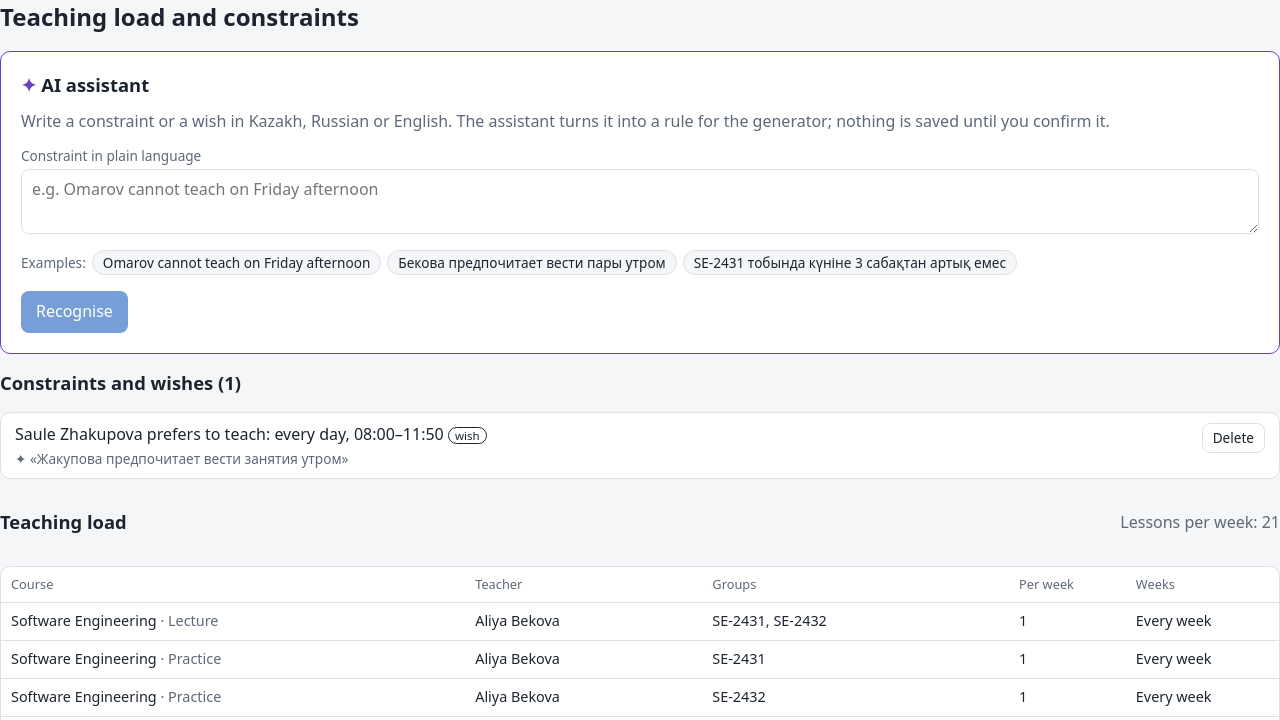
Scenario: LoadPage › turns a sentence into a rule and saves it after confirmation
This screenshot has width=1280, height=720.
Expected: the heading "Constraints and wishes (1)" is shown, [0,370,241,395]
Type "Omarov cannot teach on Friday afternoon" into the text box labelled "Constraint in plain language".
click(640, 202); type("Omarov cannot teach on Friday afternoon")  # box [21,169,1259,234]
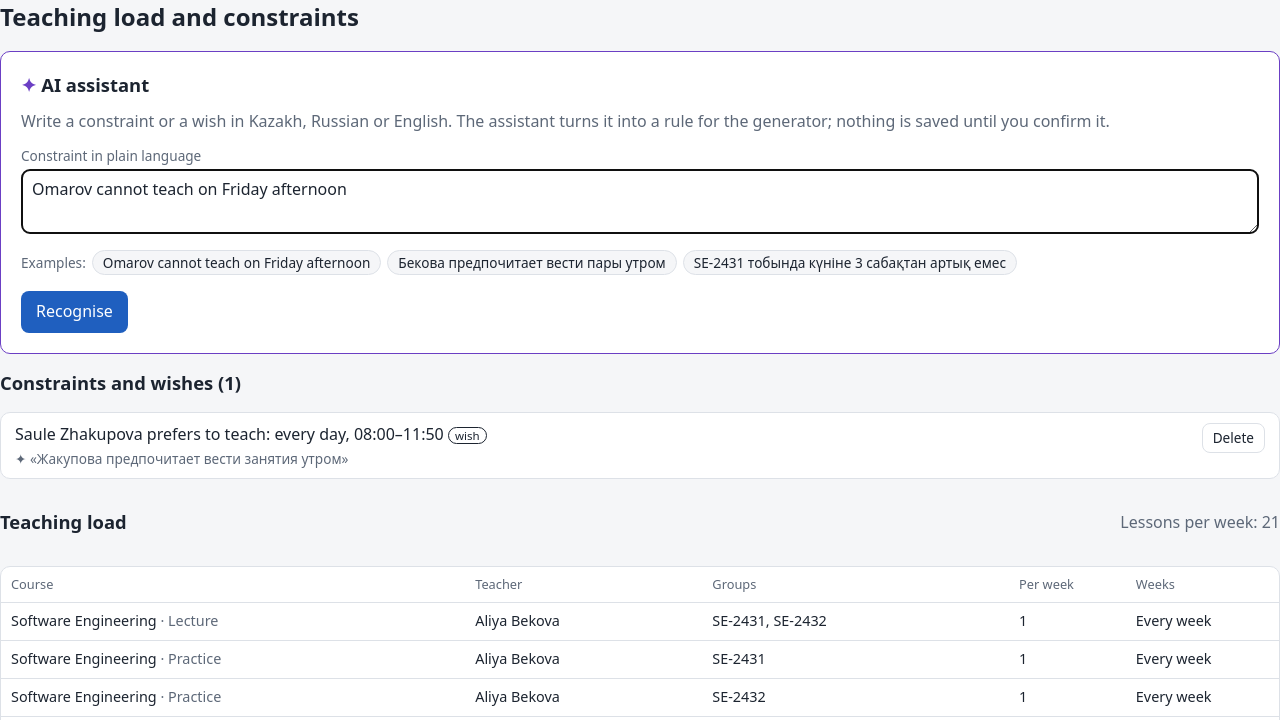
Click the button "Recognise".
click(74, 312)  # box [21,292,128,333]
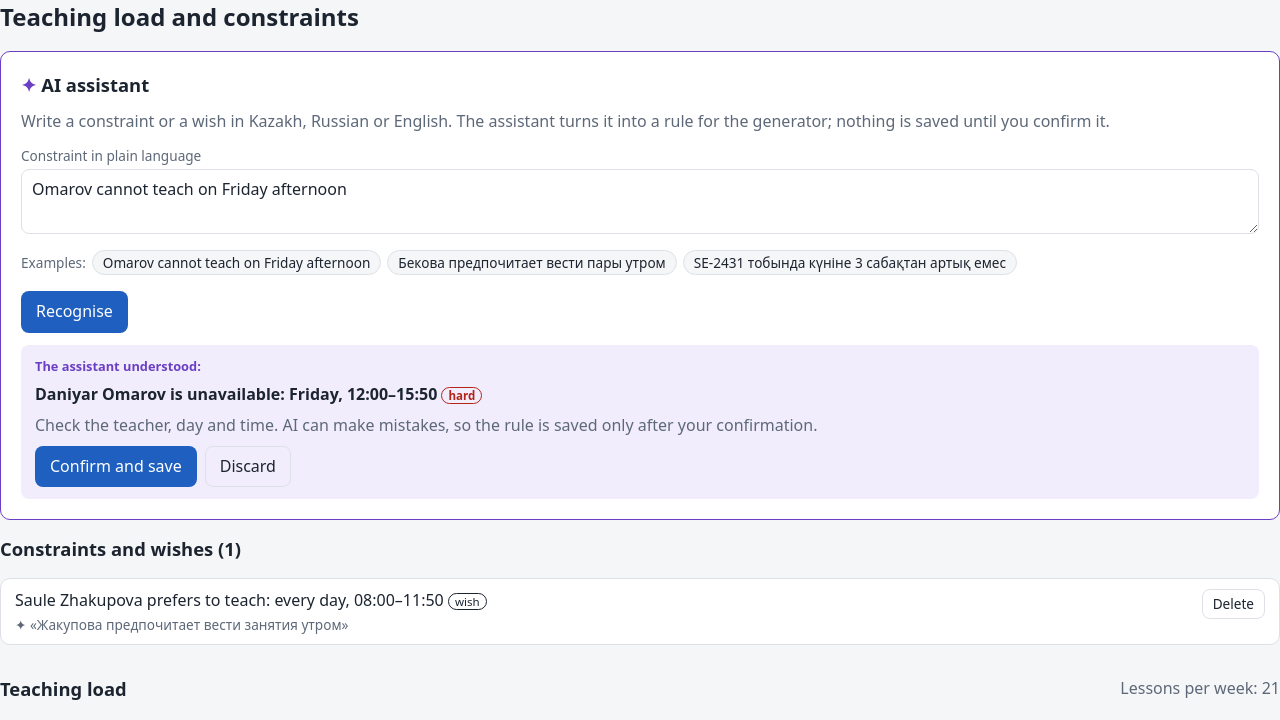
Expected: the heading "Constraints and wishes (1)" is shown, [0,536,241,561]
Expected: the text "The assistant understood:" is shown, [35,357,201,375]
Expected: the text "Daniyar Omarov is unavailable: Friday, 12:00–15:50 hard" is shown, [35,383,482,405]
Click the button "Confirm and save".
click(116, 466)  # box [35,446,197,487]
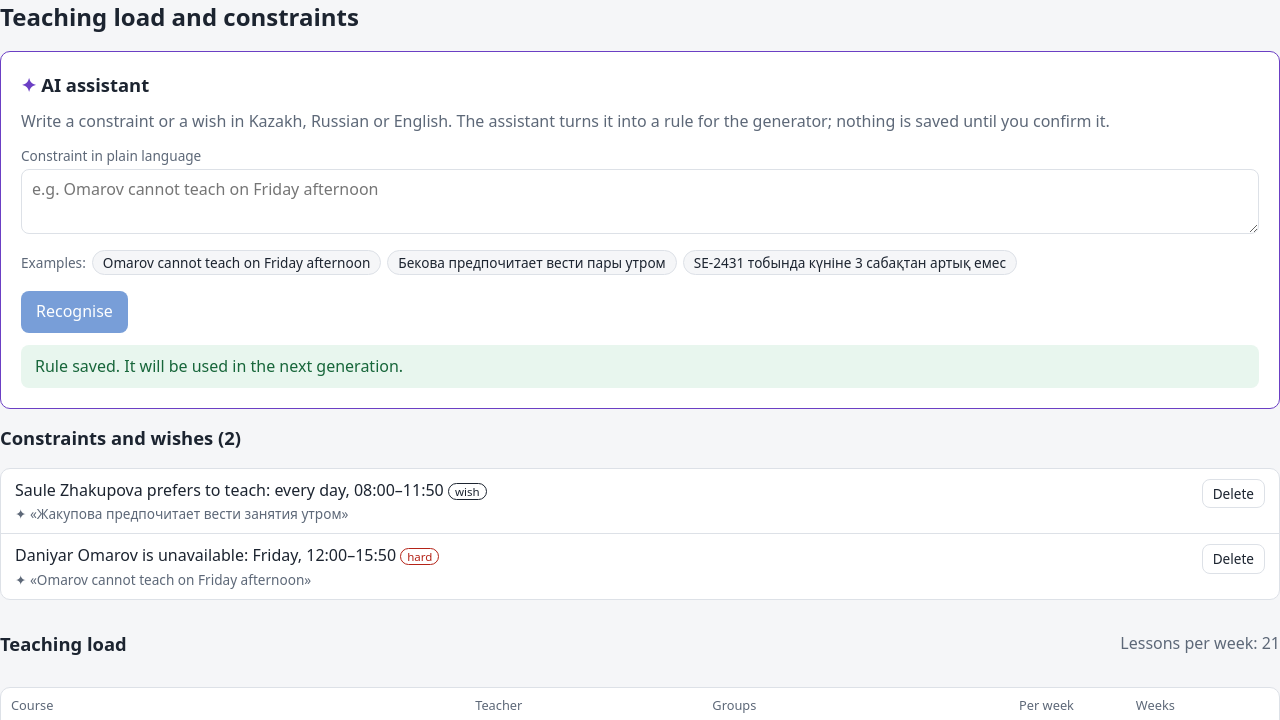
Expected: the heading "Constraints and wishes (2)" is shown, [0,425,241,450]
Expected: the text "✦ «Omarov cannot teach on Friday afternoon»" is shown, [15,570,311,589]
